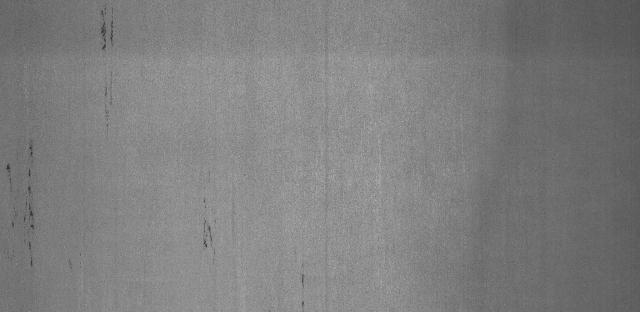inclusion: (4, 137, 40, 268), (90, 5, 119, 123), (194, 203, 225, 253), (291, 249, 316, 310)
